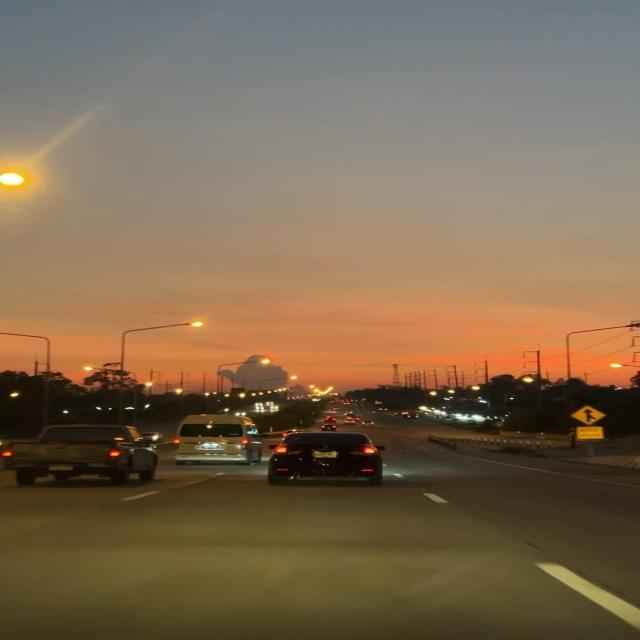Poth-hole: (29, 497, 558, 632)
